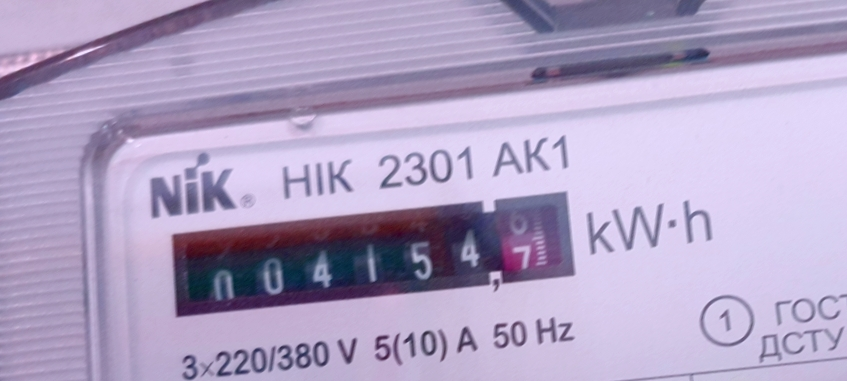0: (258, 254, 284, 298), (208, 265, 234, 302)
1: (361, 242, 378, 285)
4: (306, 248, 333, 291), (455, 225, 479, 271)
5: (406, 236, 434, 283)
6: (504, 206, 529, 237)
7: (508, 242, 532, 272)
screen: (150, 176, 592, 333)
